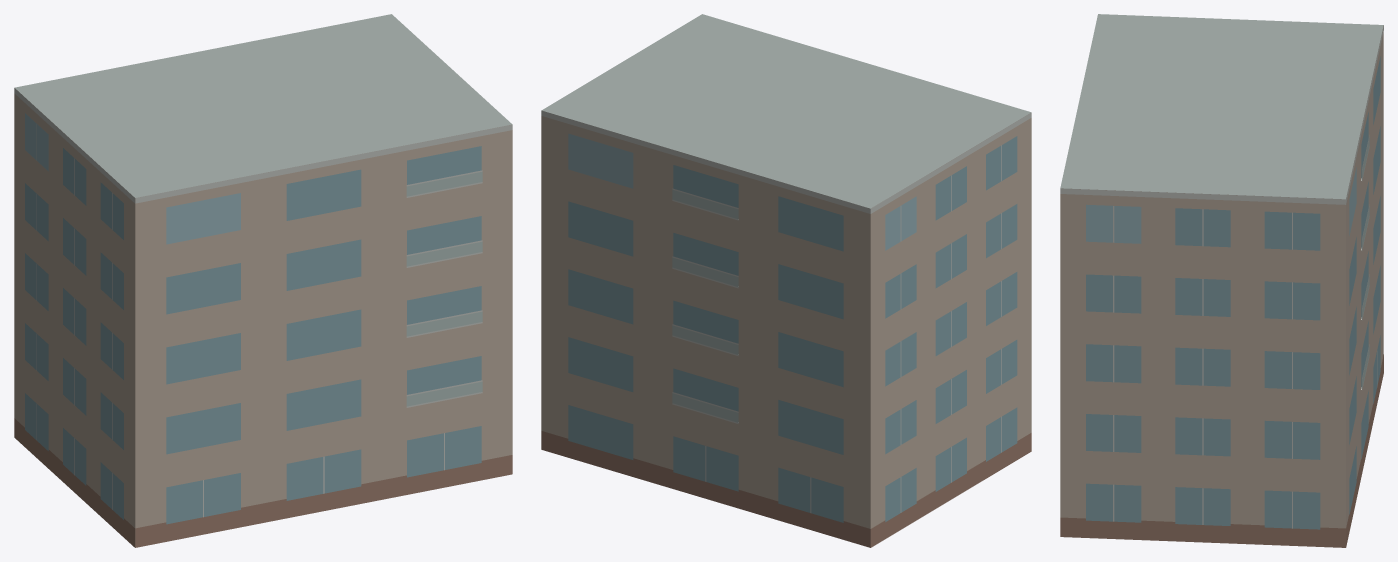
Rendered from survey-upis-32641917.glb.
The picture shows the model from 3 angles, left to right: view 1: azimuth 30°, elevation 25°; view 2: azimuth 150°, elevation 25°; view 3: azimuth 270°, elevation 25°; orthographic projection. The views are drawn at different scales.
Parts seen in each view (by area): view 1: survey-upis-32641917.tmp; view 2: survey-upis-32641917.tmp; view 3: survey-upis-32641917.tmp.
Part boxes in pixels (left/top/right/bottom): survey-upis-32641917.tmp: left=14, top=14, right=512, bottom=547; survey-upis-32641917.tmp: left=541, top=14, right=1031, bottom=547; survey-upis-32641917.tmp: left=1060, top=14, right=1383, bottom=547.
Bounding box in the file's own units: 17.39 × 15.25 × 12.83.
